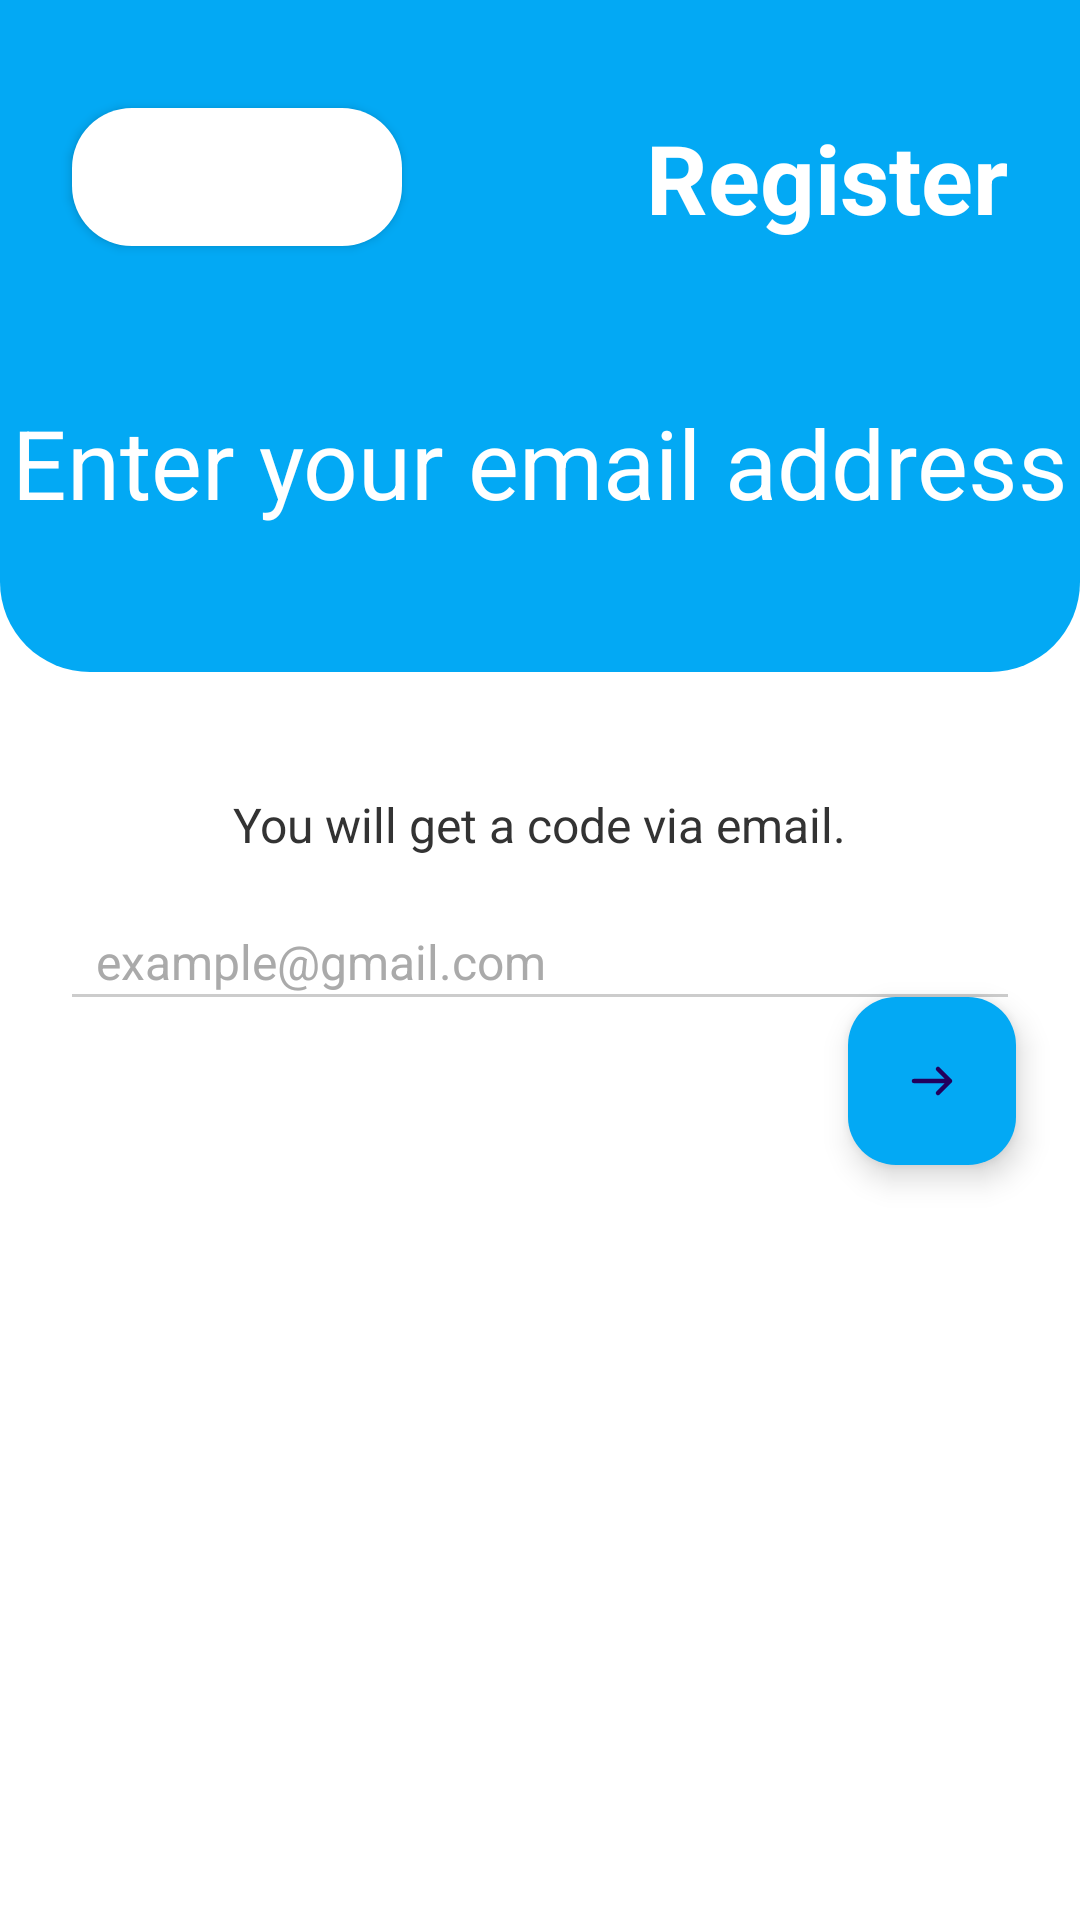

Screen size 1080 x 1920. Icon name, then its box in pixels as (x1,y1,x2,y2):
continue: (848,997,1016,1165)
